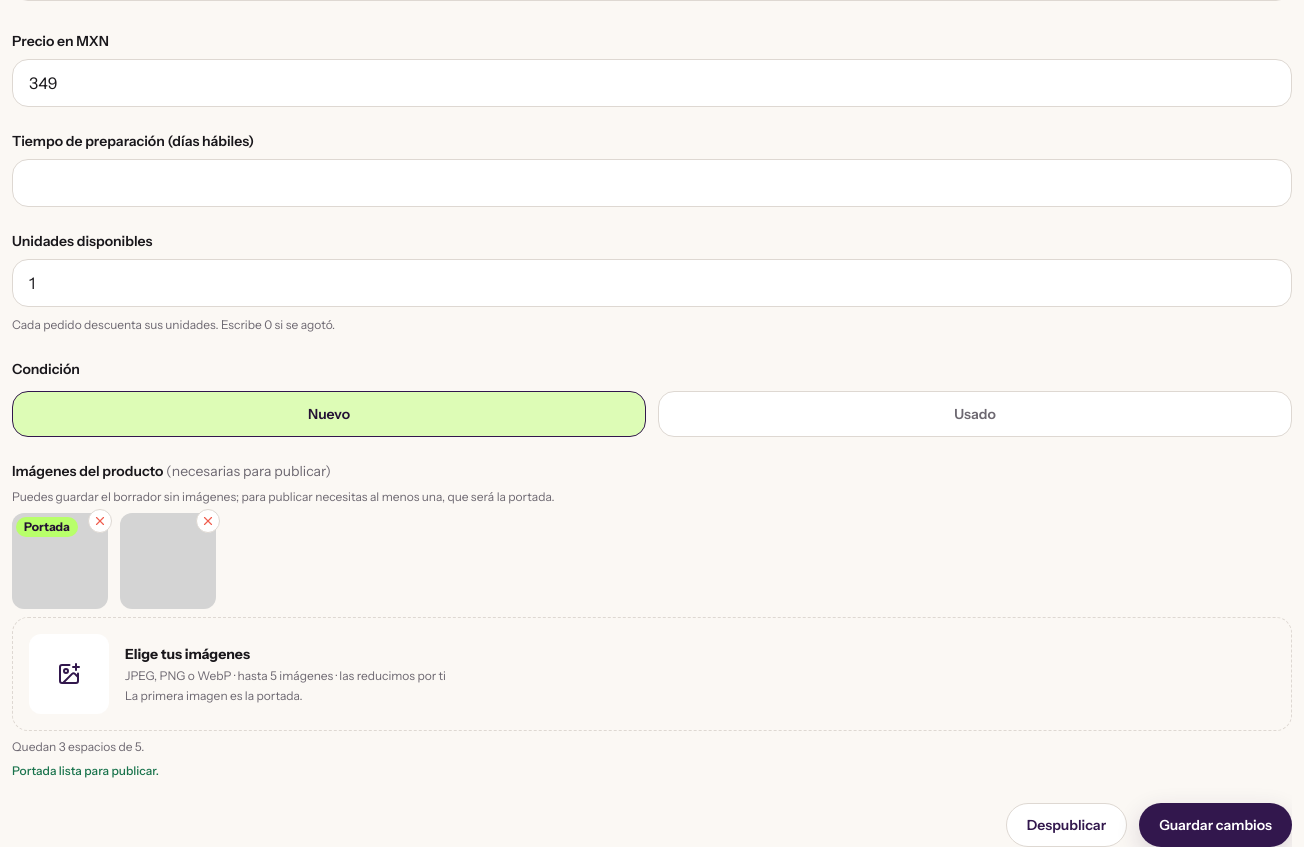
ProductForm image removal › lets the seller back out of a removal
The image size is (1304, 847).
(page scrolled)
Click the button named "Eliminar imagen 1" at (100, 521), box top-left (88, 509), bottom-right (112, 533)
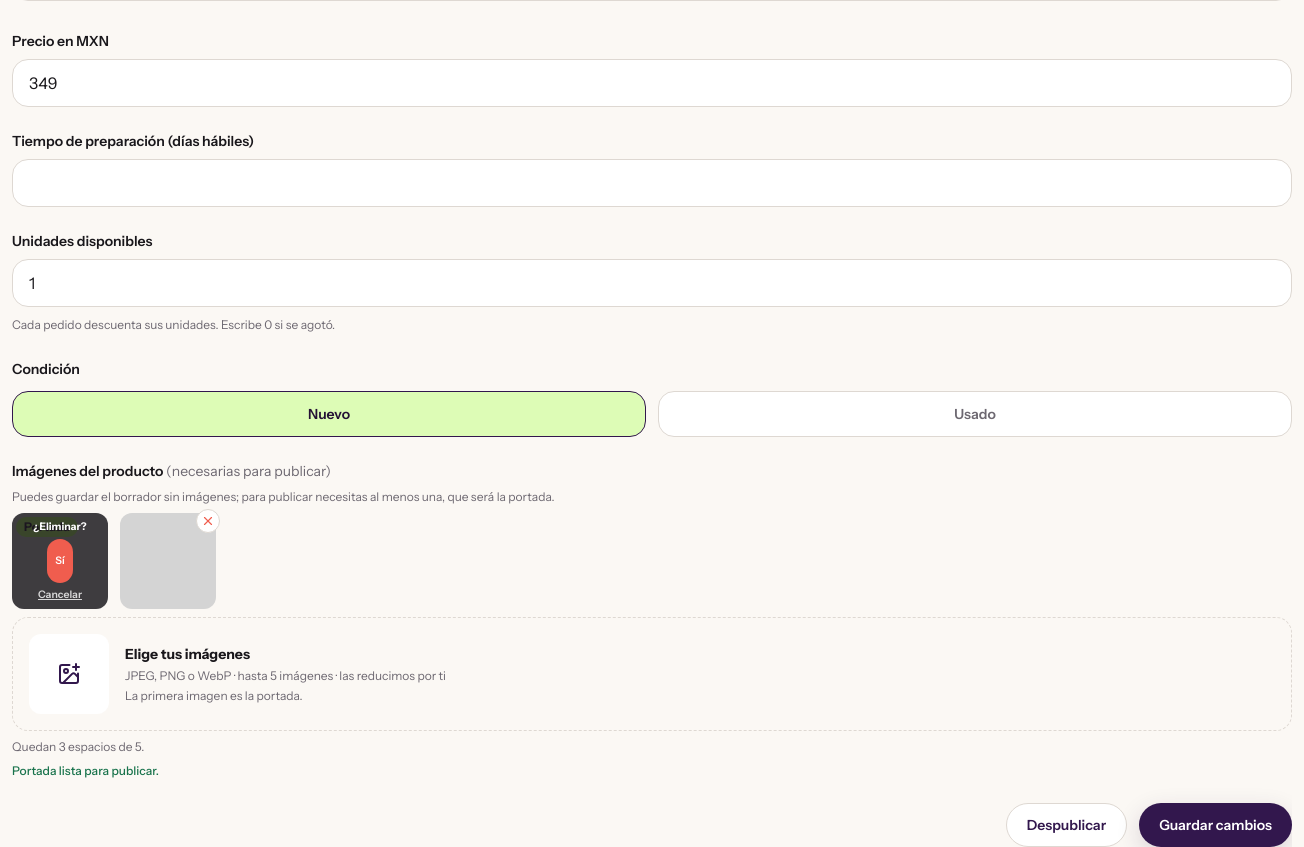
Click the button "Cancelar" at (60, 595), box top-left (38, 587), bottom-right (82, 603)
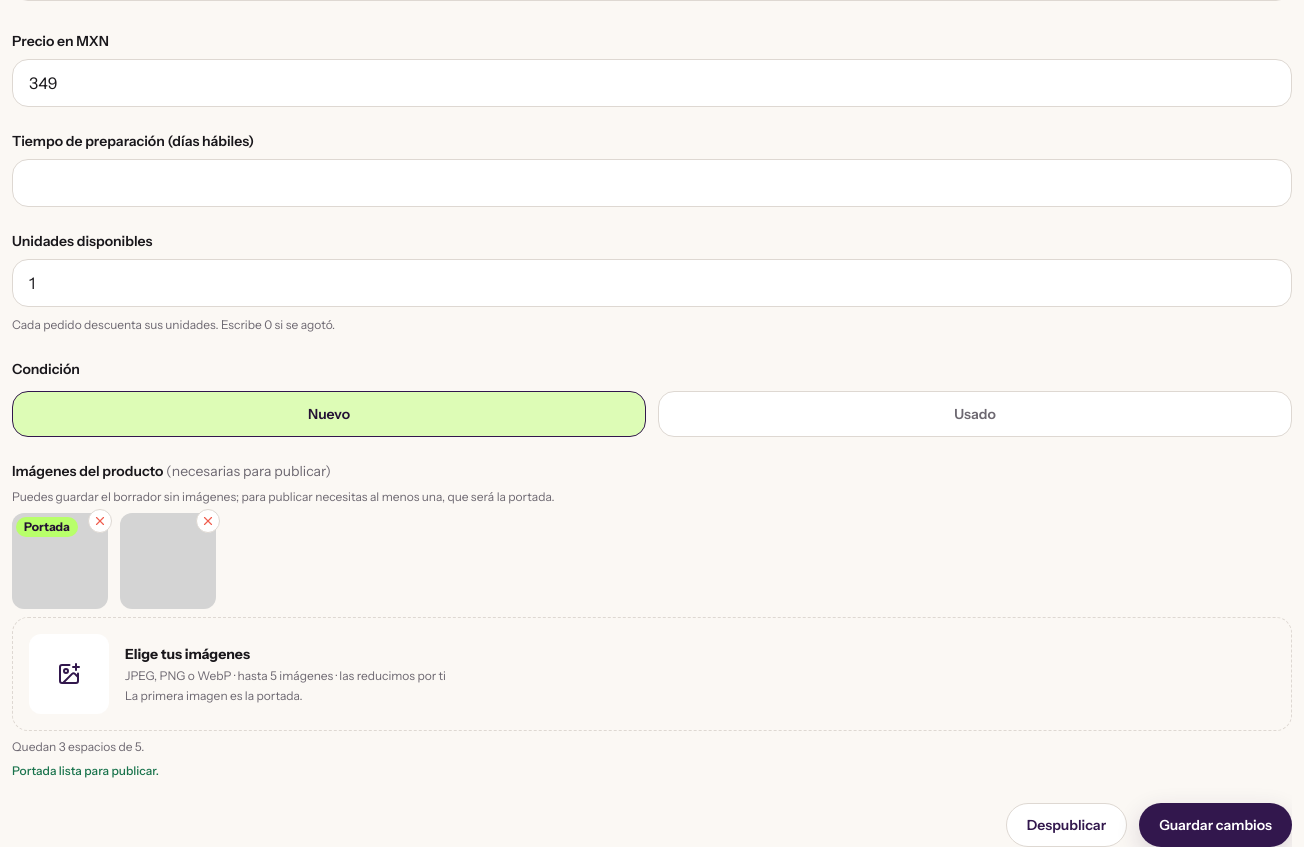
Expected: the text "¿Eliminar?" is gone
Expected: the button named "Eliminar imagen 1" is shown, top-left (88, 509), bottom-right (112, 533)
